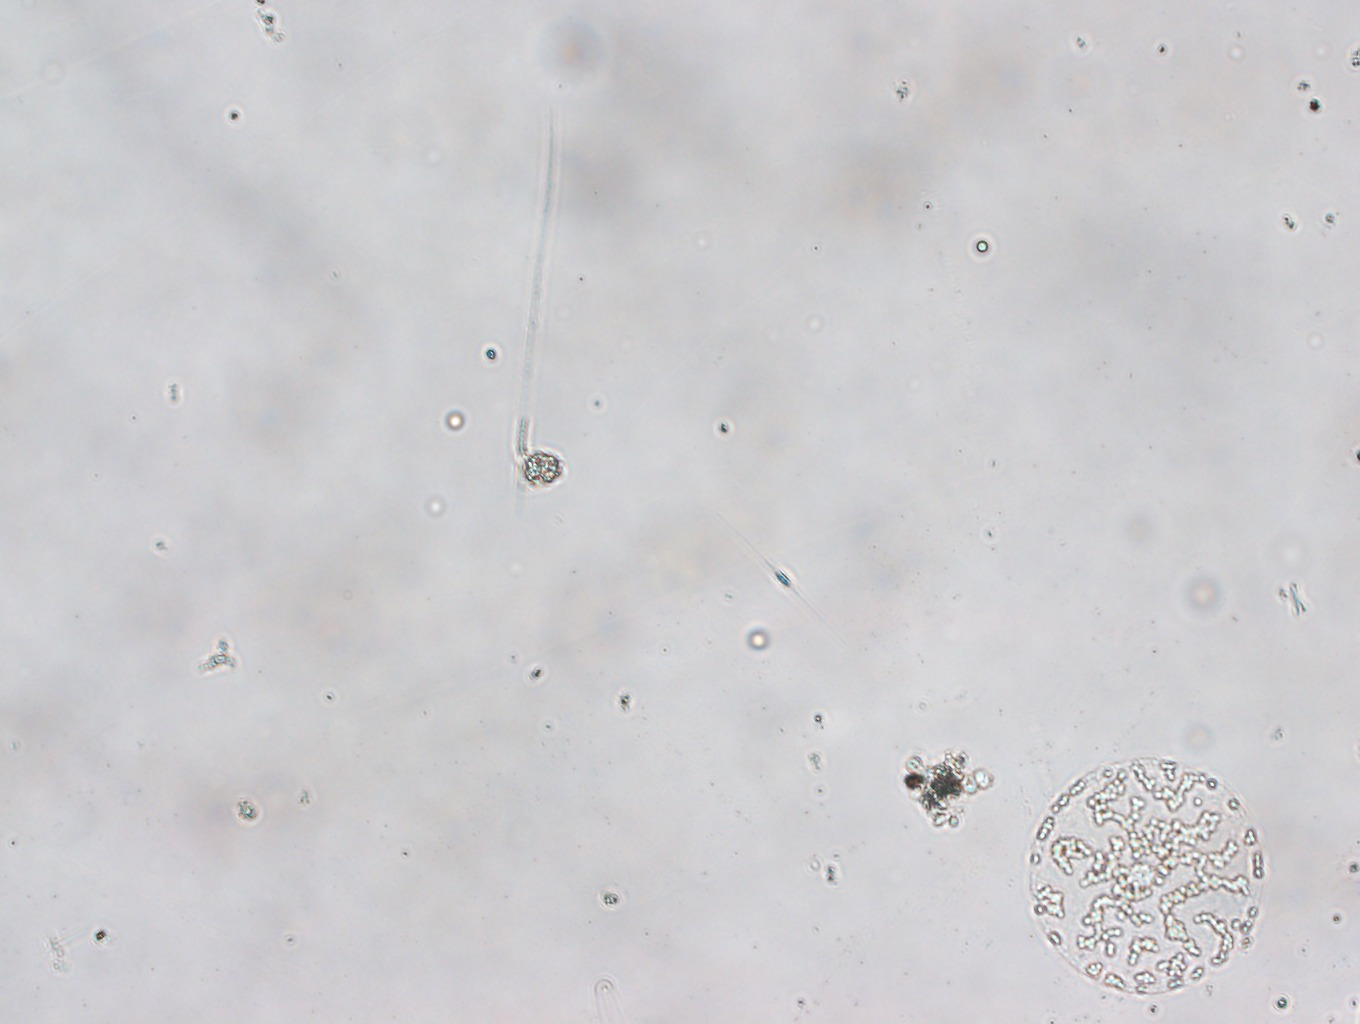coscinodiscus: (1030, 758, 1265, 997)
